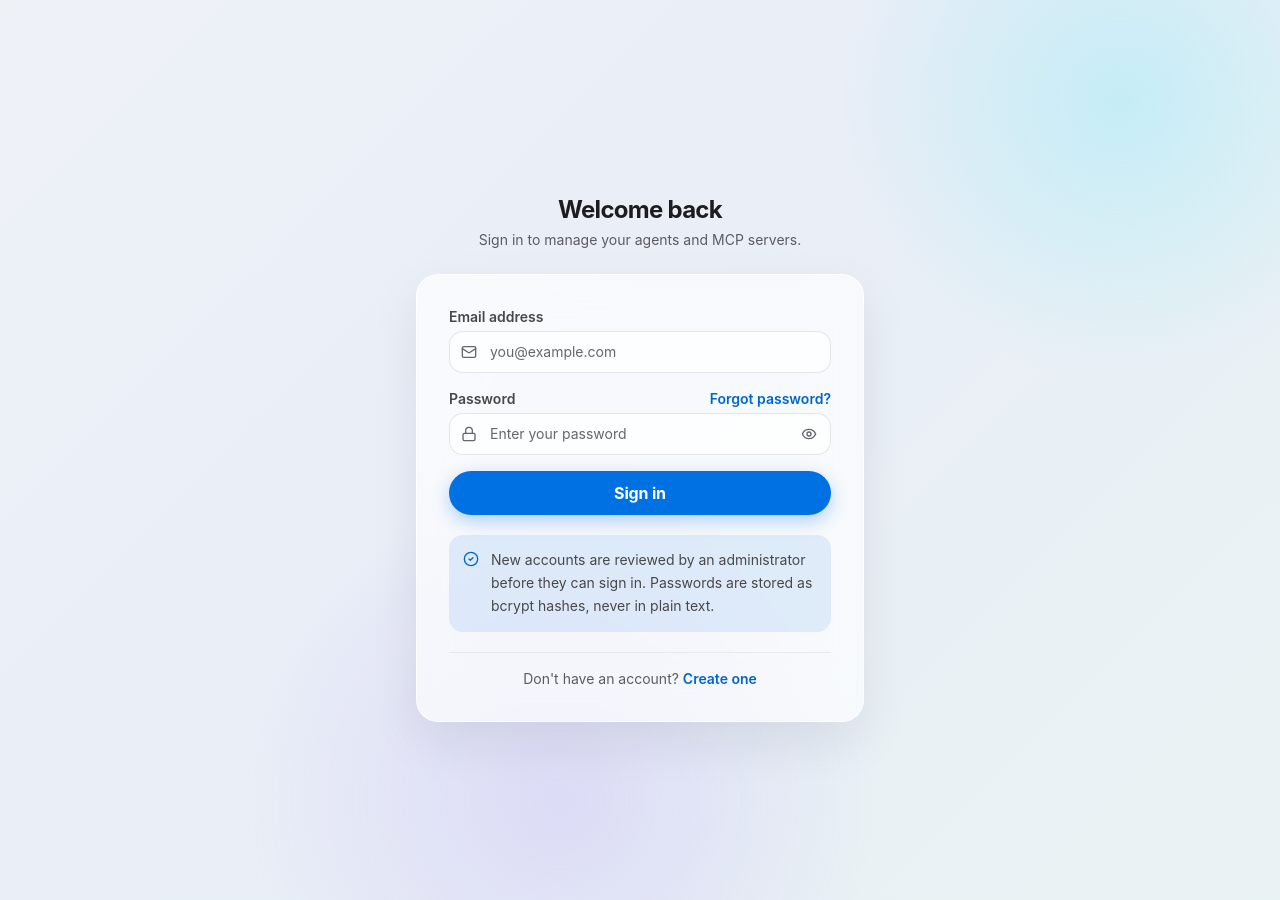
Test: a password sign-in the organization's provider requirement refuses › offers no provider for a refusal with another code
Type "member@example.test" into the field labelled "Email address" at [640, 352], box [449,331,831,373]
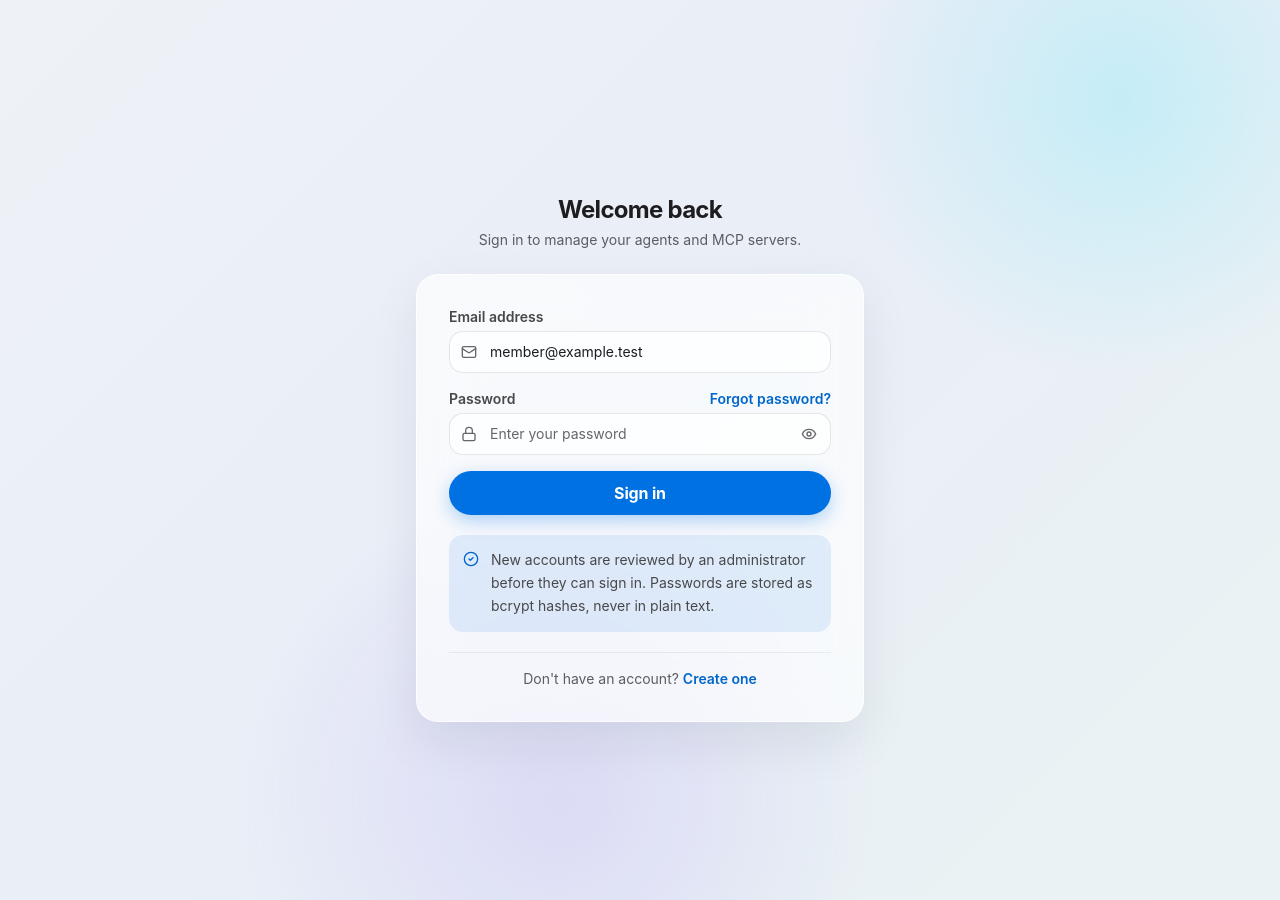
Type "the-members-password" into the password field labelled "Password" at [640, 434], box [449,413,831,455]
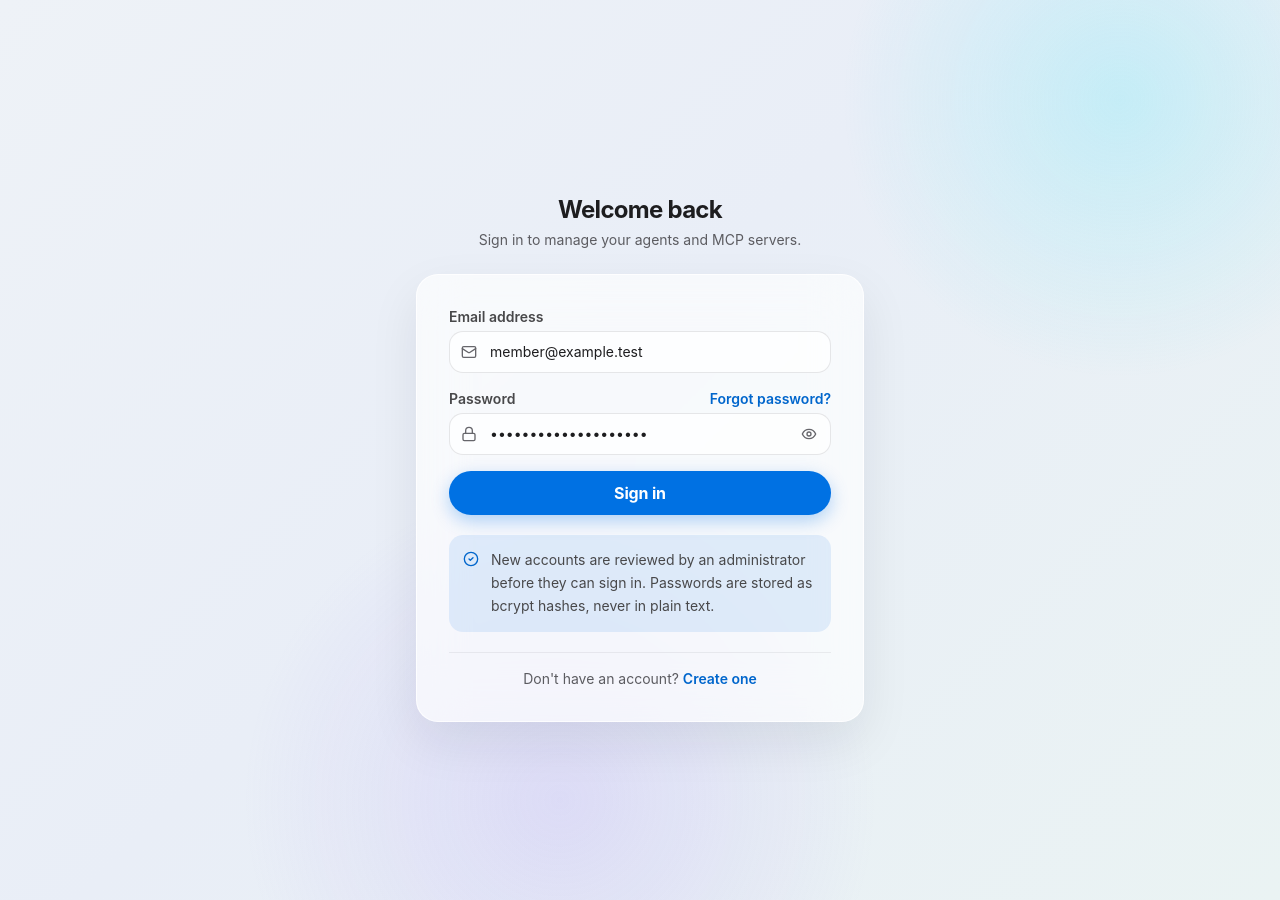
Click the button "Sign in" at [640, 493], box [449,471,831,515]
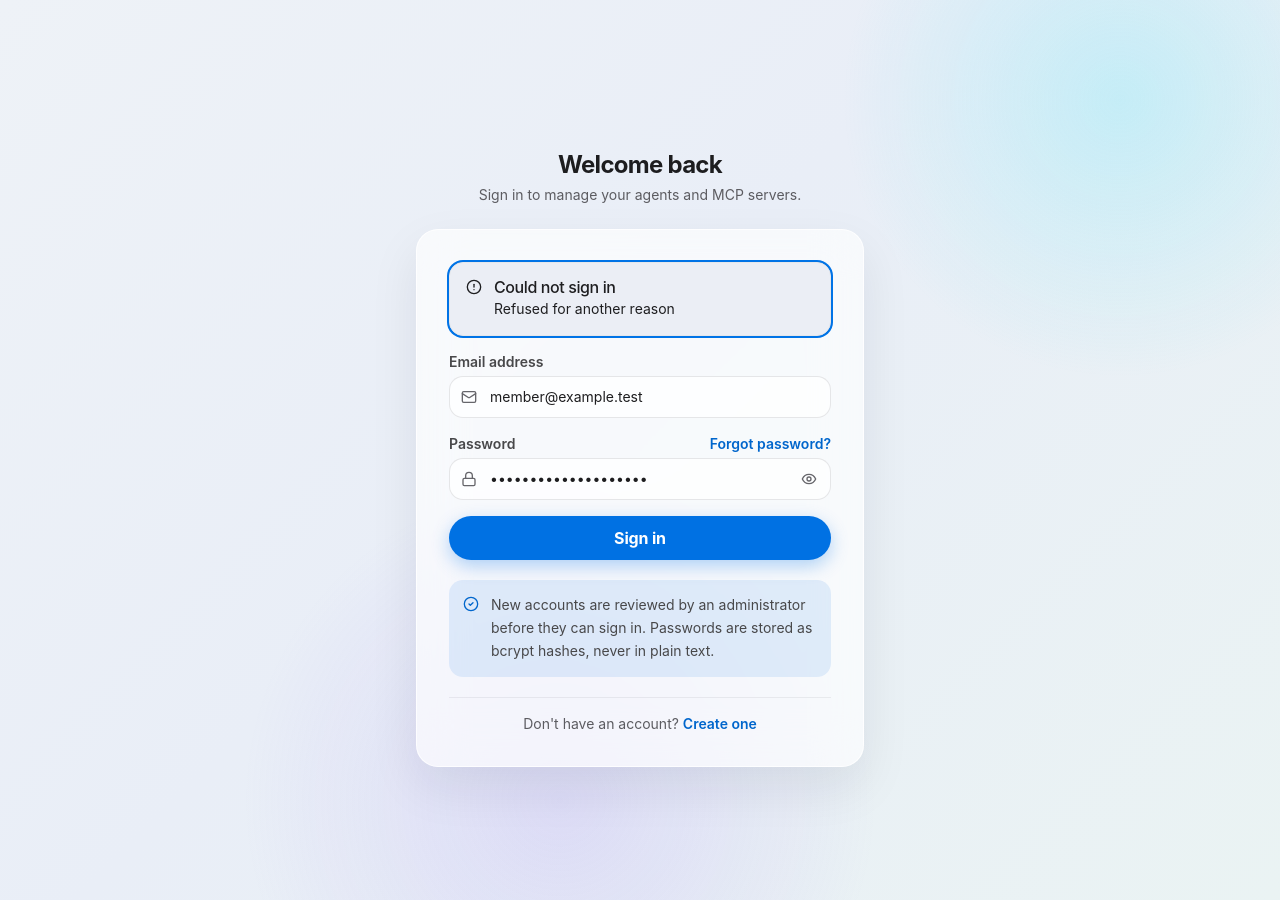
Expected: the message shows "Refused for another reason", [494,300,675,317]
